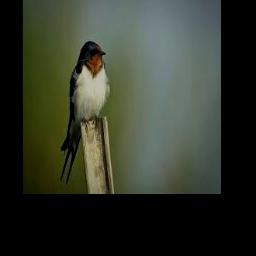Swallow: (59, 41, 110, 185)
